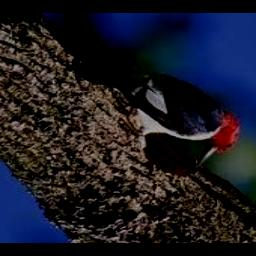Woodpecker: (72, 46, 239, 168)
